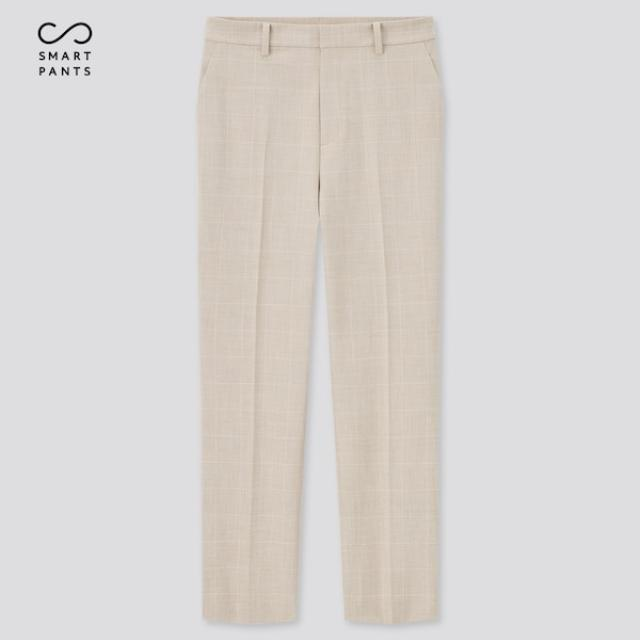long-pants: (196, 16, 448, 631)
